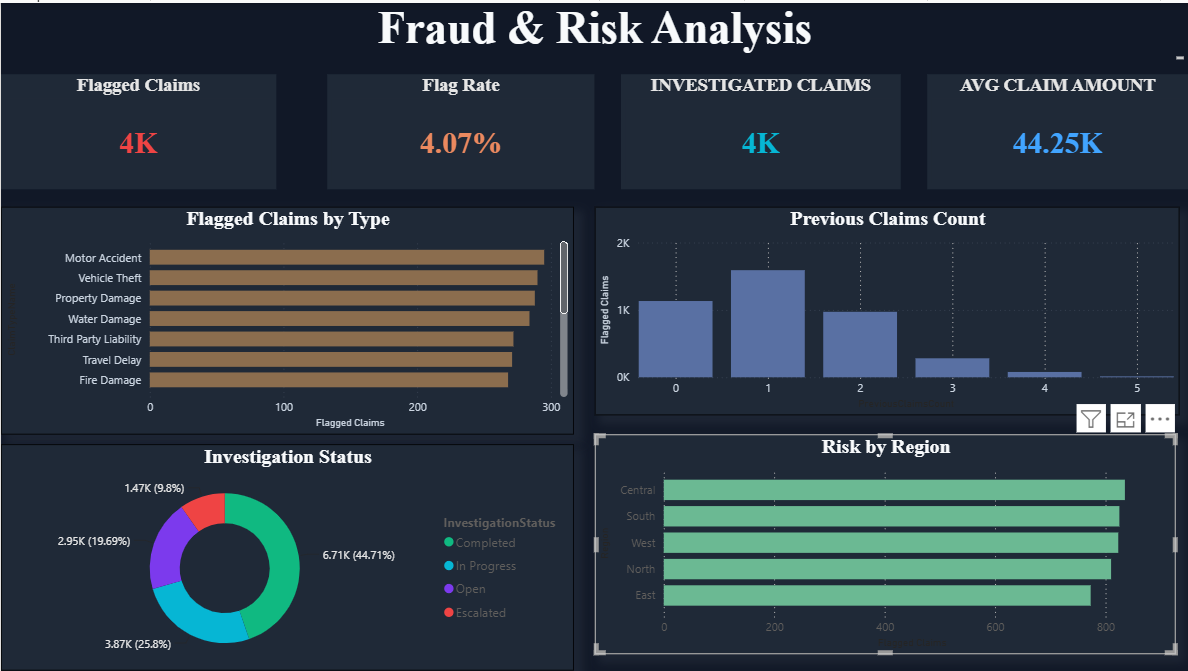

Layout of this report page (visuals, bound fields, positions):
{"tool":"powerbi","page":{"name":"Fraud & Risk Analysis","canvas":[1280,720],"ordinal":1},"visuals":[{"type":"clusteredBarChart","title":"Flagged Claims by Type","fields":{"Category":["Claim_Types.ClaimTypeName"],"Y":["Claims.Flagged Claims"]},"box":[0,219.7,617.2,245.3],"z":0},{"type":"textbox","title":"Fraud & Risk Analysis","box":[0,0,1280.3,66],"z":1000},{"type":"cardVisual","title":" Flagged Claims","fields":{"Data":["Claims.Flagged Claims"]},"box":[0,76.8,296.5,124],"z":2000},{"type":"cardVisual","title":"AVG CLAIM AMOUNT","fields":{"Data":["Claims.Average Claim Amount"]},"box":[998.6,76.8,281.7,124],"z":3000},{"type":"cardVisual","title":"INVESTIGATED CLAIMS","fields":{"Data":["Claims.Flagged Claims"]},"box":[668.4,76.8,301.9,124],"z":4000},{"type":"cardVisual","title":"Flag Rate","fields":{"Data":["Claims.Flagged Claims Rate"]},"box":[351.7,76.8,288.4,124],"z":5000},{"type":"clusteredColumnChart","title":"Previous Claims Count","fields":{"Category":["Claims.PreviousClaimsCount"],"Y":["Claims.Flagged Claims"]},"box":[640.1,219.7,630.7,225.1],"z":6000},{"type":"donutChart","title":"Investigation Status","fields":{"Category":["Investigations.InvestigationStatus"],"Y":["Count(Investigations.InvestigationID)"]},"box":[0,475.7,617.2,243.9],"z":7000},{"type":"barChart","title":"Risk by Region","fields":{"Category":["Customers.Region"],"Y":["Claims.Flagged Claims"]},"box":[640.1,464.9,626.7,237.2],"z":8000}]}

Visuals, with their boxes in screenshot pixels (x1, y1, x2, y2), scaled from the page's 1280x720 canvas onto the 1188x671 screenshot:
"Flagged Claims by Type" clusteredBarChart: region(0, 205, 573, 433)
"Fraud & Risk Analysis" textbox: region(0, 0, 1187, 62)
" Flagged Claims" cardVisual: region(0, 72, 275, 187)
"AVG CLAIM AMOUNT" cardVisual: region(927, 72, 1187, 187)
"INVESTIGATED CLAIMS" cardVisual: region(620, 72, 901, 187)
"Flag Rate" cardVisual: region(326, 72, 594, 187)
"Previous Claims Count" clusteredColumnChart: region(594, 205, 1179, 415)
"Investigation Status" donutChart: region(0, 443, 573, 670)
"Risk by Region" barChart: region(594, 433, 1176, 654)
